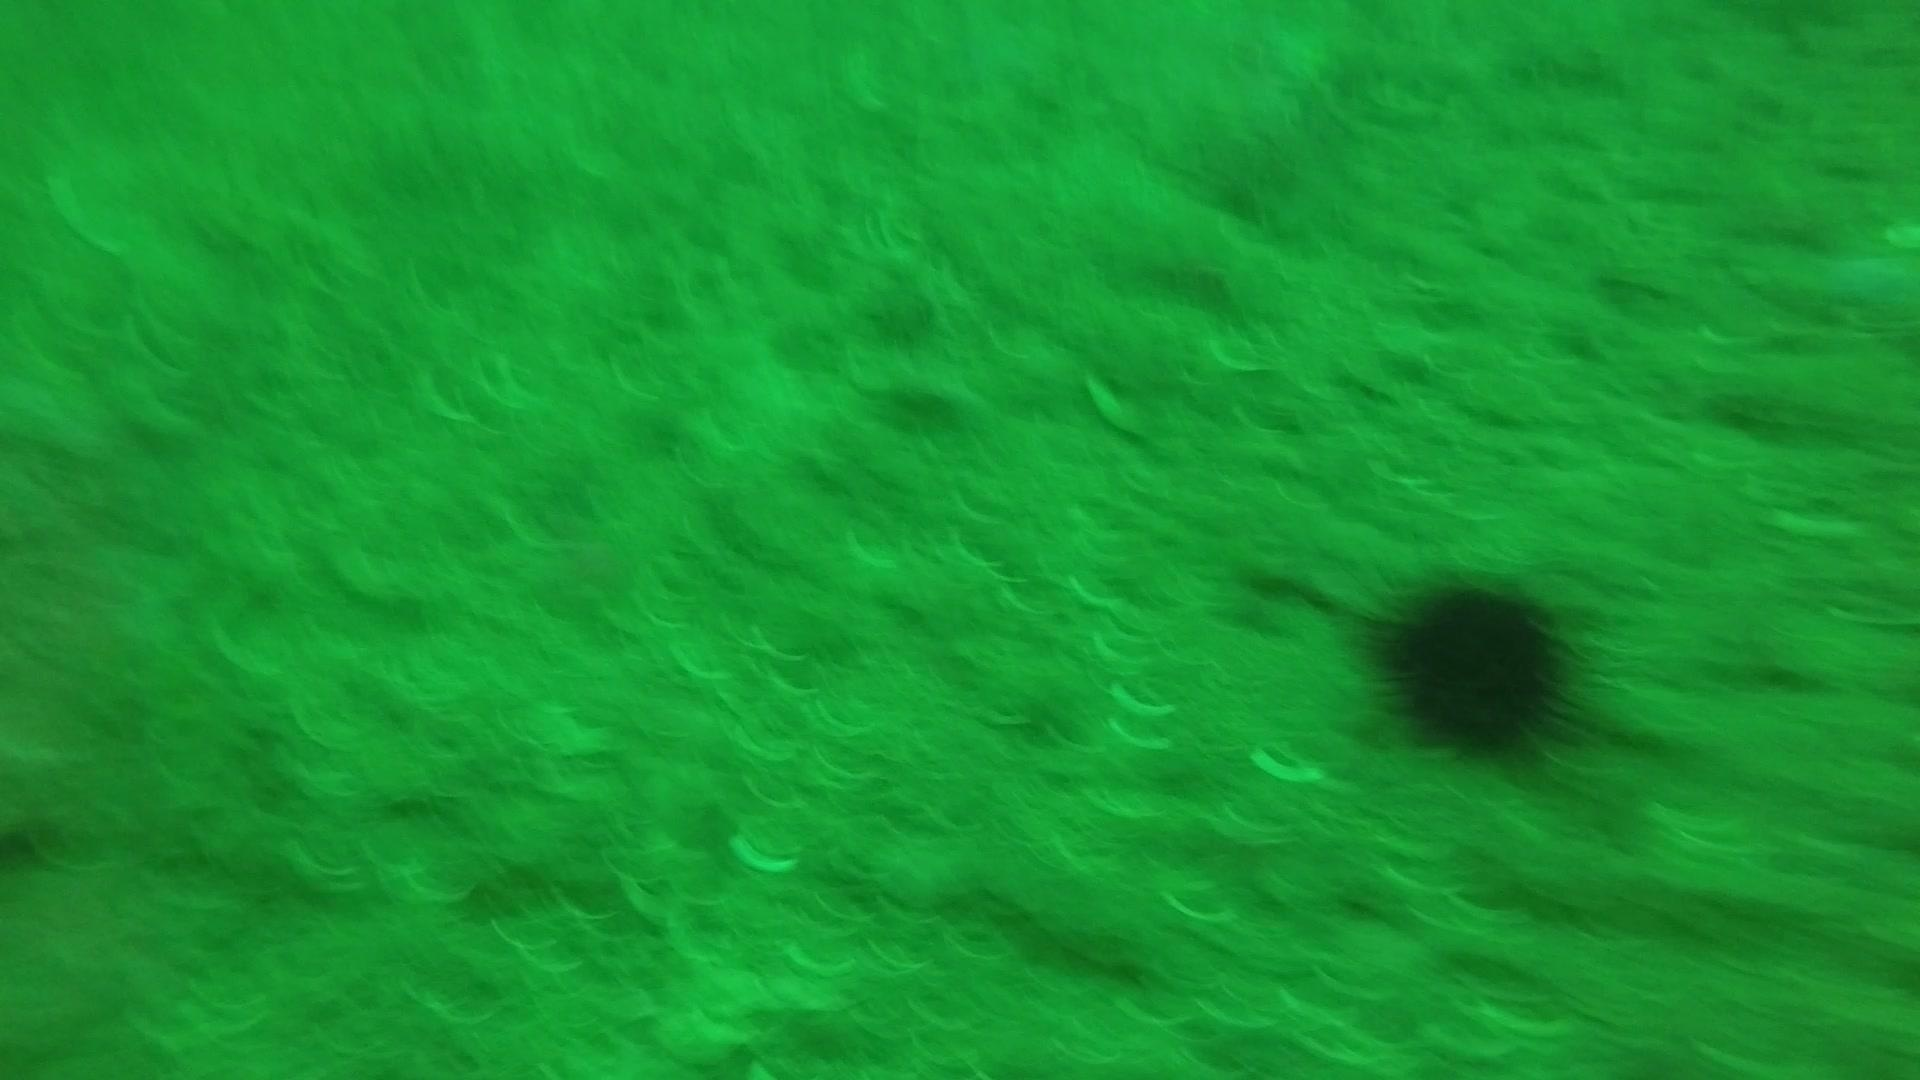echinus: (1360, 568, 1586, 766)
